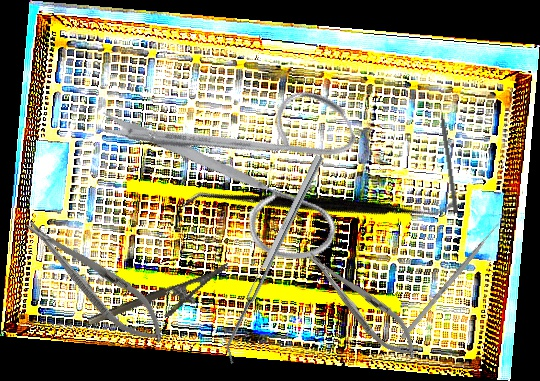Iris Scissors: (91, 22, 393, 316)
Needle Holder: (14, 206, 177, 355), (297, 240, 428, 369), (86, 262, 239, 345)
Pusher: (400, 214, 507, 341), (437, 96, 460, 214)
Spatula Surgical: (179, 87, 457, 325), (217, 154, 332, 365)
